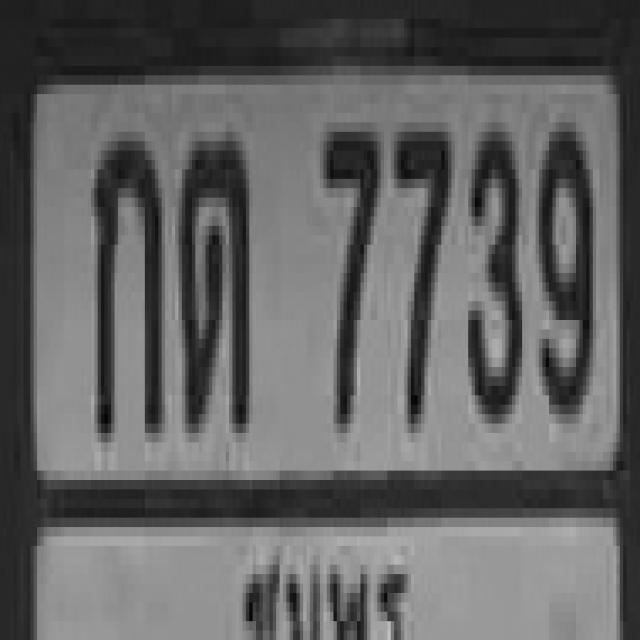10GorGai: (91, 127, 158, 428)
3: (465, 122, 519, 414)
30TorTao: (178, 132, 246, 424)
7: (391, 122, 448, 414), (320, 127, 377, 419)
9: (536, 113, 590, 405)
Chumphon: (232, 536, 411, 640)
